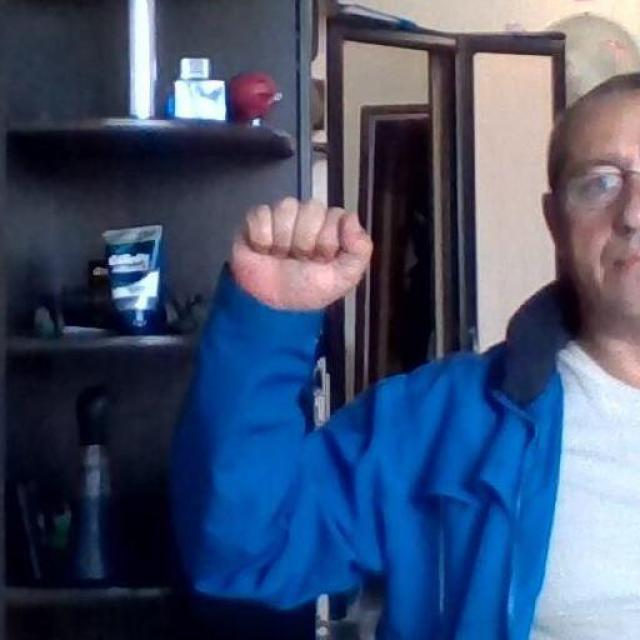hand: (228, 195, 374, 313)
